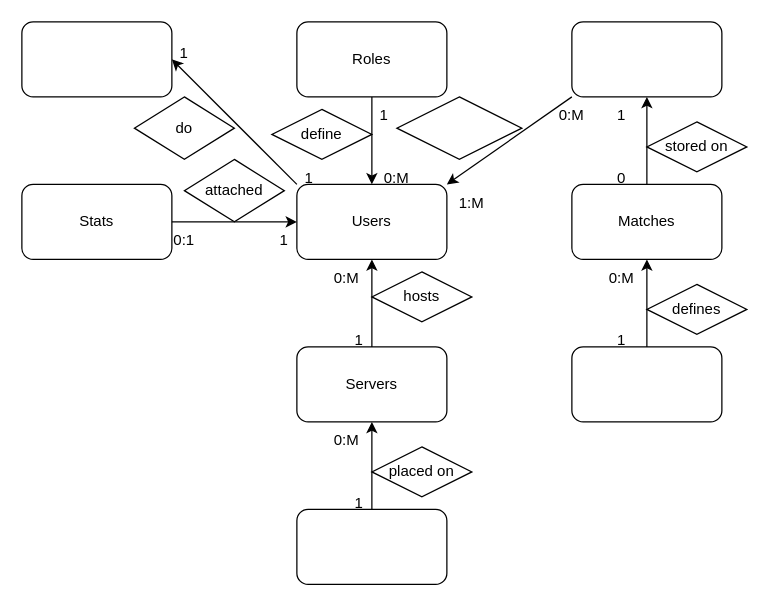
Some shapes in this 769 by 606 pixel diagram are drawn without their labels. The shapes that lost their labels are listed below. From the top down, each one's centre as x and y in pixels, then its label:
At (x=96, y=59): "Bans".
At (x=646, y=59): "Sessions".
At (x=459, y=127): "initialized by".
At (x=646, y=384): "Games".
At (x=371, y=546): "Regions".
